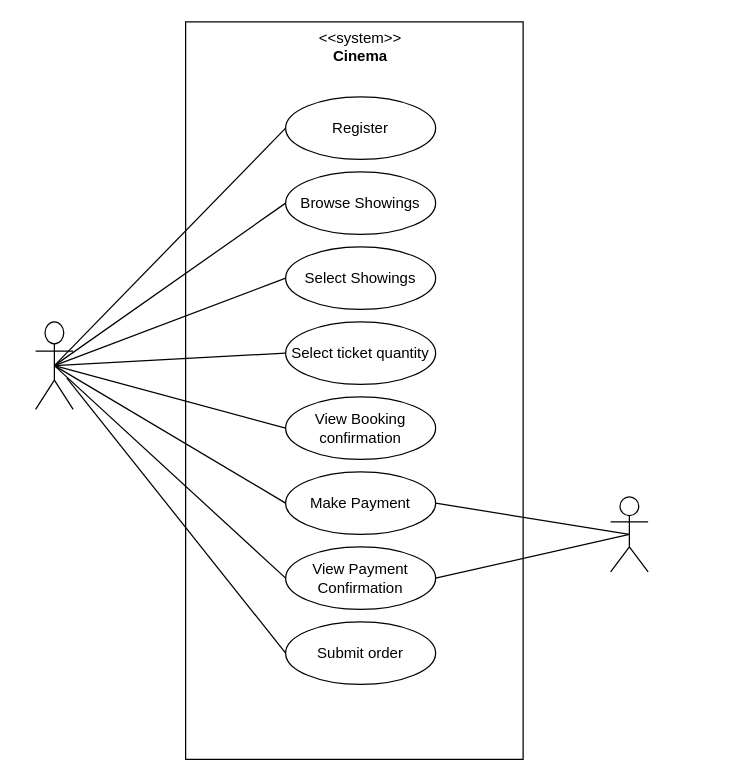
This 748x781 diagram has some shape labels left out. Here are the shapes that lost their labels. From the top down, the centre of each, then its label:
(53,365): Customer
(628,534): <<externalpaymentsystem>>
